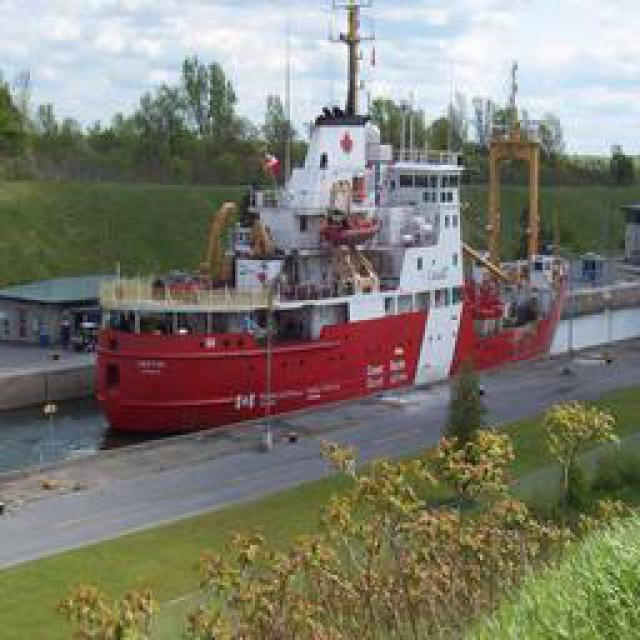Ship: (94, 85, 567, 448)
